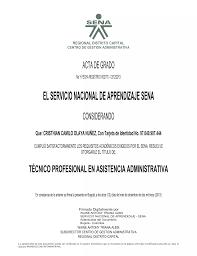certificado: (2, 0, 196, 255)
institucion: (38, 84, 159, 105)
nombre: (41, 126, 97, 139)
titulo: (24, 161, 172, 177)
